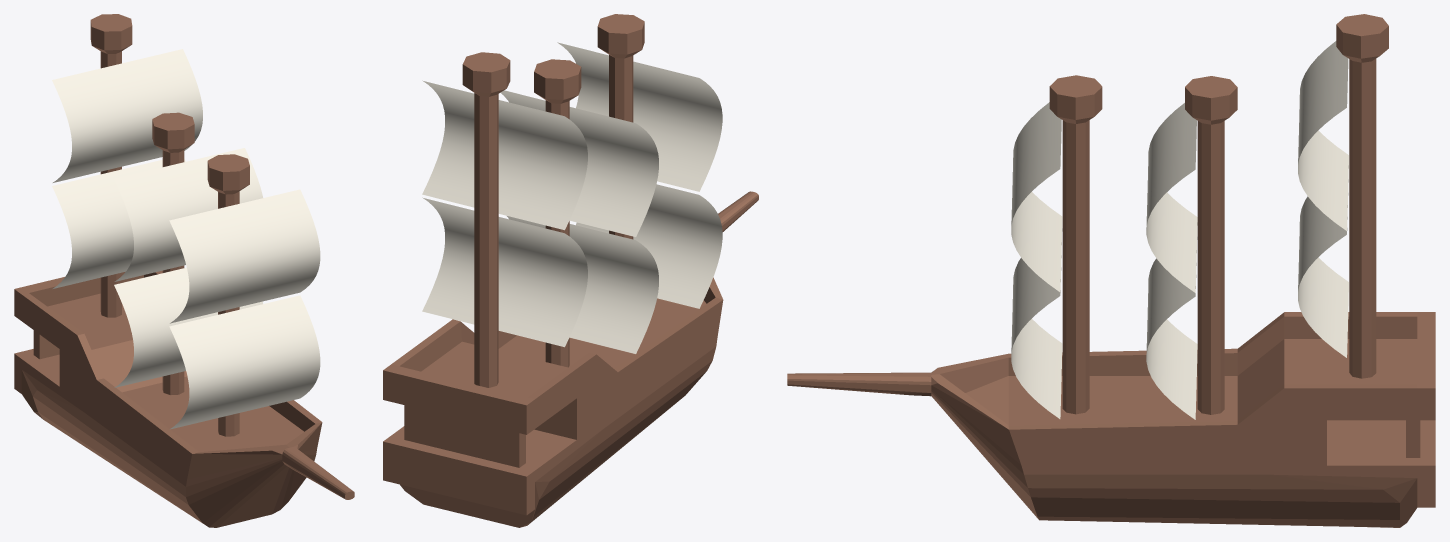
File: Sailboat.fbx
3 renders of one model, left to right at view 1: azimuth 30°, elevation 25°; view 2: azimuth 150°, elevation 25°; view 3: azimuth 270°, elevation 25°, orthographic. The views are drawn at different scales.
Visible parts, largest first — view 1: Plane, SurfPatch, SurfPatch.001, SurfPatch.004, SurfPatch.002, SurfPatch.005, SurfPatch.003, Cylinder.002, Cylinder.001, Cylinder, Cube; view 2: Plane, SurfPatch.004, SurfPatch.005, SurfPatch, Cylinder.002, SurfPatch.002, SurfPatch.003, SurfPatch.001, Cube, Cylinder, Cylinder.001; view 3: Plane, Cylinder.002, Cylinder, Cylinder.001, SurfPatch.004, SurfPatch, SurfPatch.002, SurfPatch.003, SurfPatch.005, SurfPatch.001.
Boxes of the visible parts, x1,y1,x2,y2 form: Plane: (14, 270, 354, 527); SurfPatch: (169, 189, 320, 323); SurfPatch.001: (169, 295, 320, 429); SurfPatch.004: (52, 49, 202, 182); SurfPatch.002: (114, 148, 262, 281); SurfPatch.005: (52, 158, 185, 288); SurfPatch.003: (114, 267, 262, 387); Cylinder.002: (90, 14, 132, 317); Cylinder.001: (152, 112, 194, 395); Cylinder: (207, 154, 249, 436); Cube: (33, 330, 59, 359); Plane: (383, 191, 758, 527); SurfPatch.004: (422, 80, 587, 230); SurfPatch.005: (422, 197, 587, 347); SurfPatch: (557, 42, 722, 191); Cylinder.002: (462, 52, 510, 387); SurfPatch.002: (500, 90, 658, 236); SurfPatch.003: (507, 216, 658, 353); SurfPatch.001: (576, 184, 722, 308); Cube: (404, 405, 525, 467); Cylinder: (597, 14, 644, 239); Cylinder.001: (534, 59, 581, 367); Plane: (787, 312, 1435, 527); Cylinder.002: (1336, 14, 1388, 378); Cylinder: (1049, 75, 1102, 414); Cylinder.001: (1185, 76, 1237, 414); SurfPatch.004: (1298, 41, 1348, 230); SurfPatch: (1011, 102, 1062, 291); SurfPatch.002: (1146, 103, 1197, 292); SurfPatch.003: (1146, 222, 1197, 419); SurfPatch.005: (1298, 165, 1348, 357); SurfPatch.001: (1011, 228, 1062, 418).
Size of the model in its own units: 510 by 1466 by 1800.
